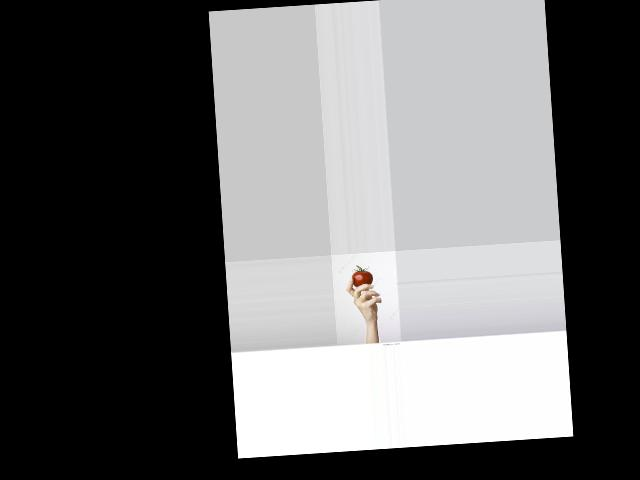tomato: (351, 264, 373, 286)
